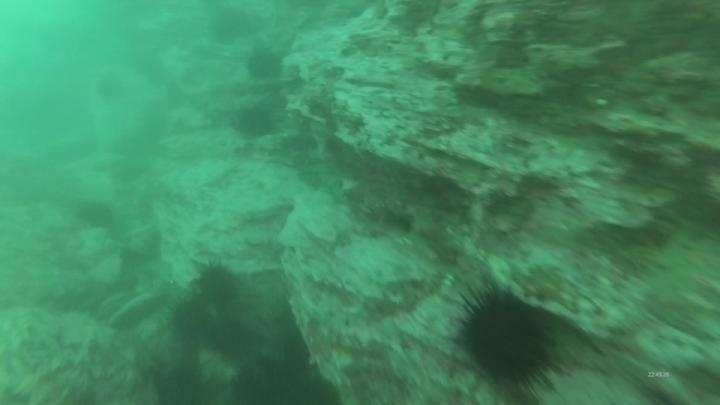echinus: (451, 282, 564, 398), (226, 350, 335, 405), (149, 360, 224, 405), (192, 259, 243, 309), (168, 295, 219, 345), (205, 314, 256, 361), (207, 6, 255, 47), (231, 102, 278, 141), (244, 46, 285, 84), (74, 197, 117, 232)
